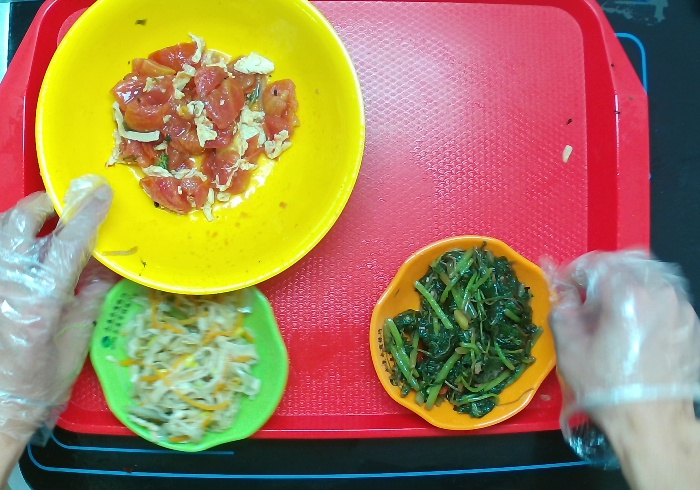YKMZ-Huang_Se_Tang_Wan: (25, 1, 367, 299)
YKMZ-Ju_Se_Ao_Bian_Wan: (360, 229, 571, 438)
YKMZ-Lv_Se_Ao_Bian_Wan: (79, 269, 294, 460)
